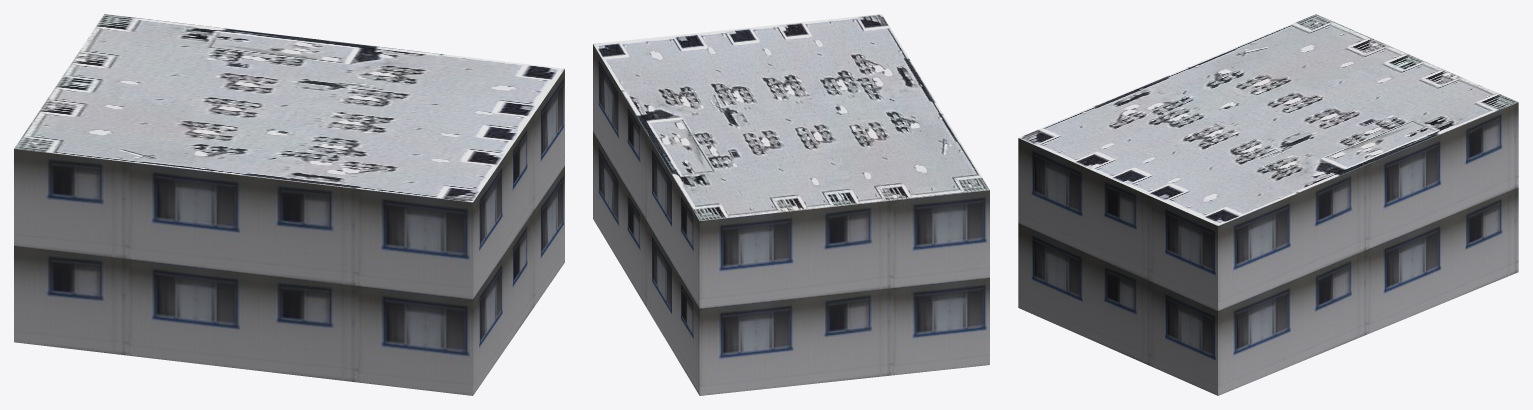
Rendered from ResTex__3005.fbx.
The picture shows the model from 3 angles, left to right: view 1: azimuth 30°, elevation 25°; view 2: azimuth 150°, elevation 25°; view 3: azimuth 270°, elevation 25°; orthographic projection. The views are drawn at different scales.
Parts seen in each view (by area): view 1: CityEngineMaterial_9_m, CityEngineMaterial_m; view 2: CityEngineMaterial_9_m, CityEngineMaterial_m; view 3: CityEngineMaterial_9_m, CityEngineMaterial_m.
Part boxes in pixels (bbox=[...]): CityEngineMaterial_9_m: bbox=[14, 69, 564, 395]; CityEngineMaterial_m: bbox=[14, 14, 564, 202]; CityEngineMaterial_9_m: bbox=[593, 44, 989, 395]; CityEngineMaterial_m: bbox=[593, 14, 989, 220]; CityEngineMaterial_9_m: bbox=[1018, 102, 1518, 395]; CityEngineMaterial_m: bbox=[1018, 14, 1518, 225].
Size of the model in its own units: 16.06 by 6 by 16.02.
2 materials, 2 textured.
